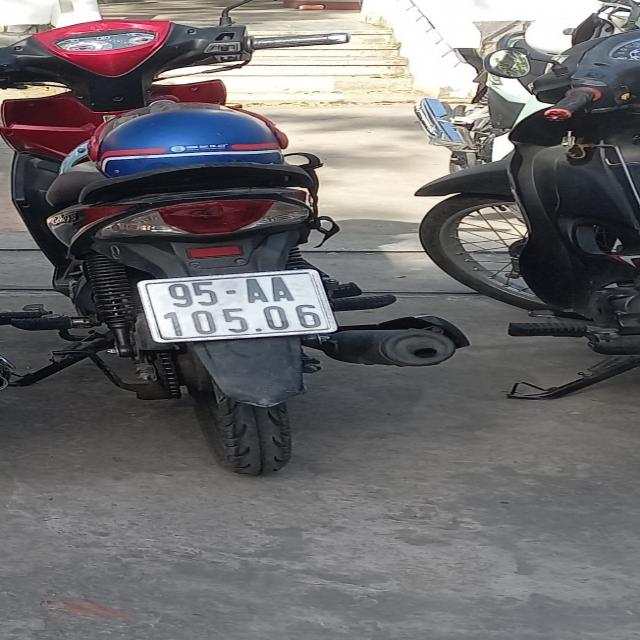0: (256, 306, 291, 330), (188, 309, 218, 334)
1: (158, 311, 185, 339)
5: (191, 280, 220, 306), (222, 308, 251, 332)
6: (294, 303, 324, 329)
9: (166, 284, 192, 308)
A: (270, 275, 296, 302), (242, 278, 270, 303)
